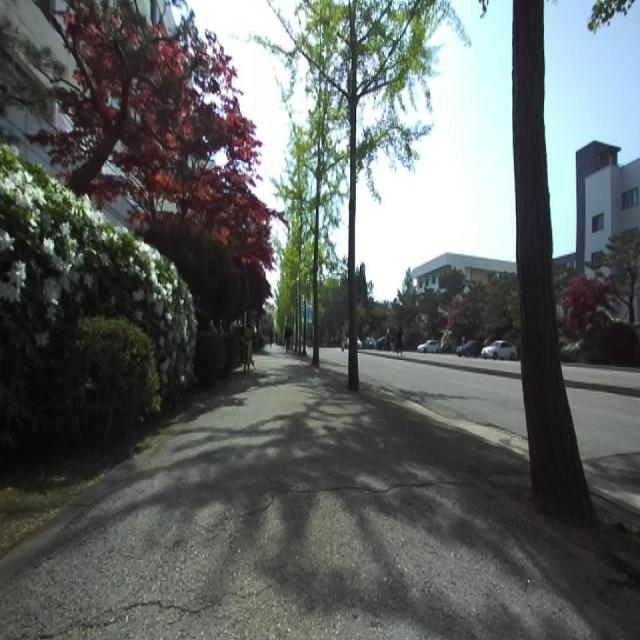sidewalk: (0, 348, 640, 639)
